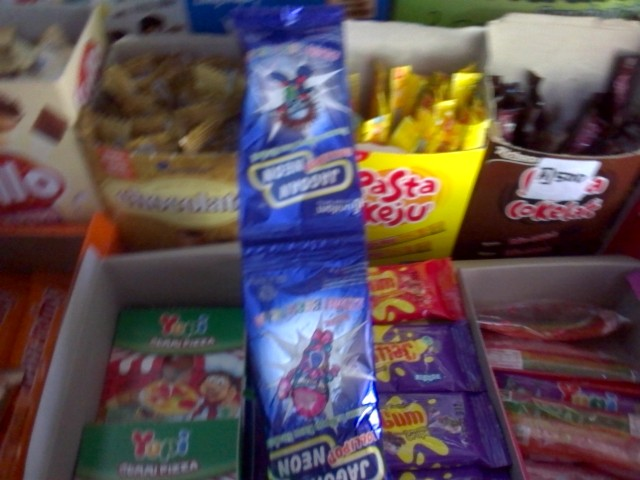jagoan neon: (241, 243, 391, 479), (239, 6, 366, 255)
